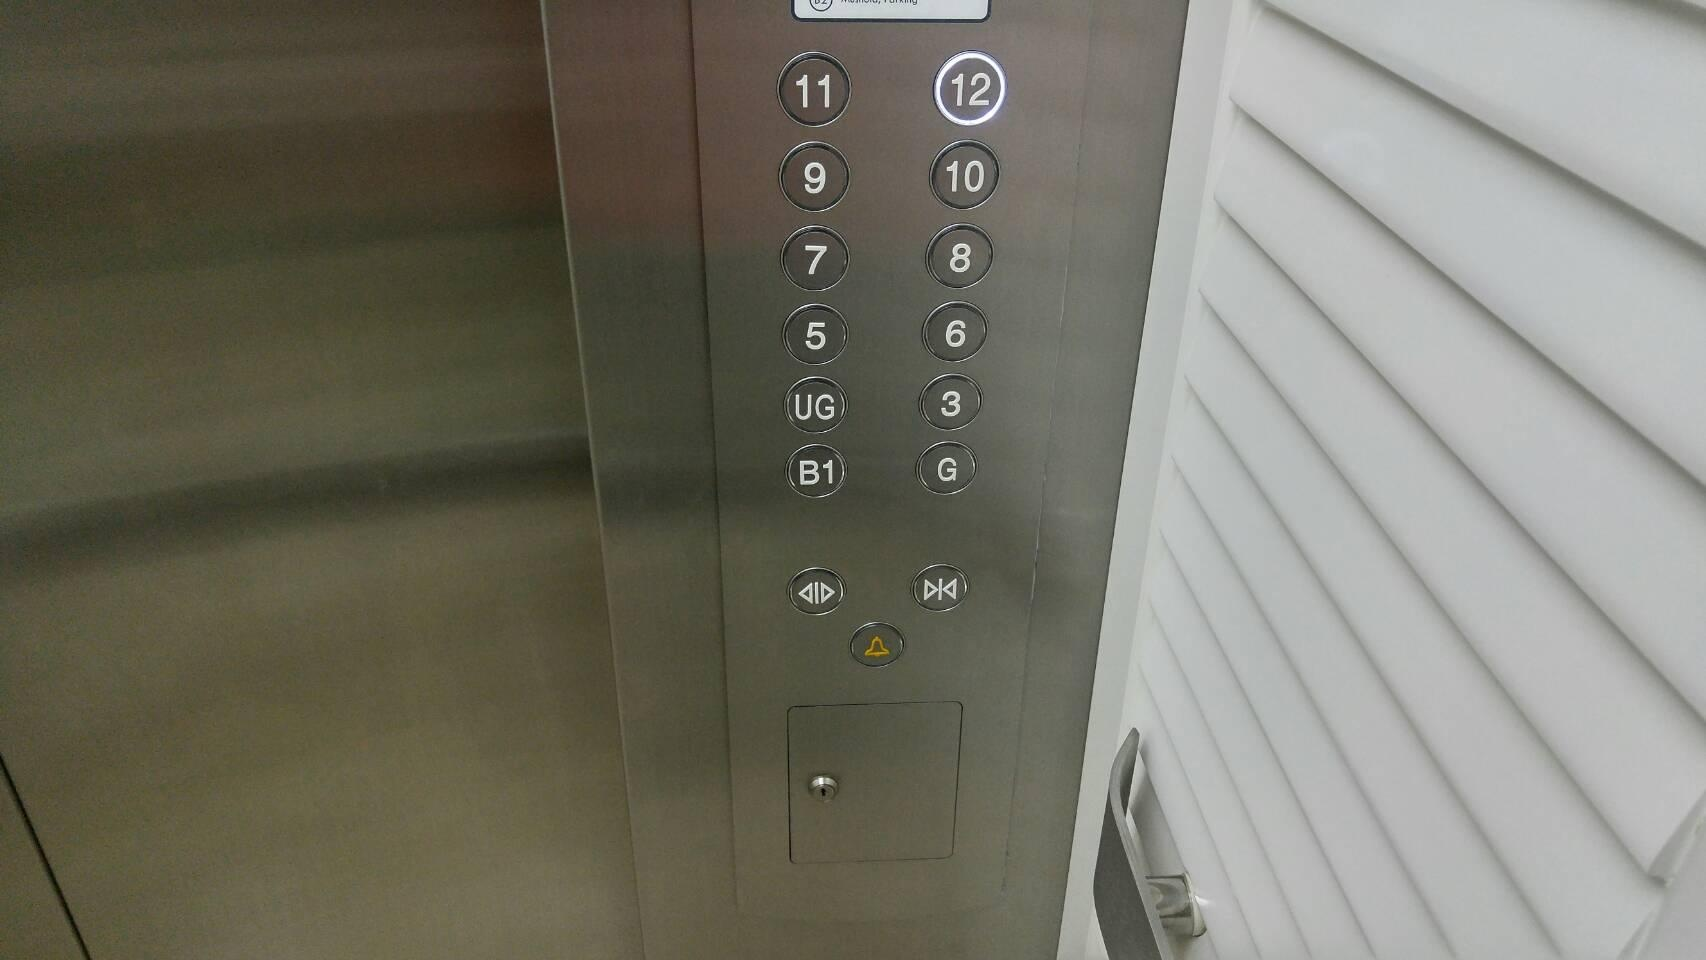10: (924, 135, 1003, 213)
11: (773, 45, 854, 131)
12: (929, 48, 1009, 130)
3: (915, 369, 987, 435)
5: (777, 297, 851, 368)
6: (917, 297, 991, 366)
7: (776, 218, 851, 294)
8: (921, 218, 995, 292)
9: (774, 135, 852, 215)
B1: (782, 440, 848, 503)
G: (914, 436, 980, 499)
UG: (779, 372, 849, 437)
alarm: (845, 618, 907, 672)
close: (908, 560, 970, 617)
keyhole: (801, 769, 842, 808)
open: (785, 561, 847, 619)
